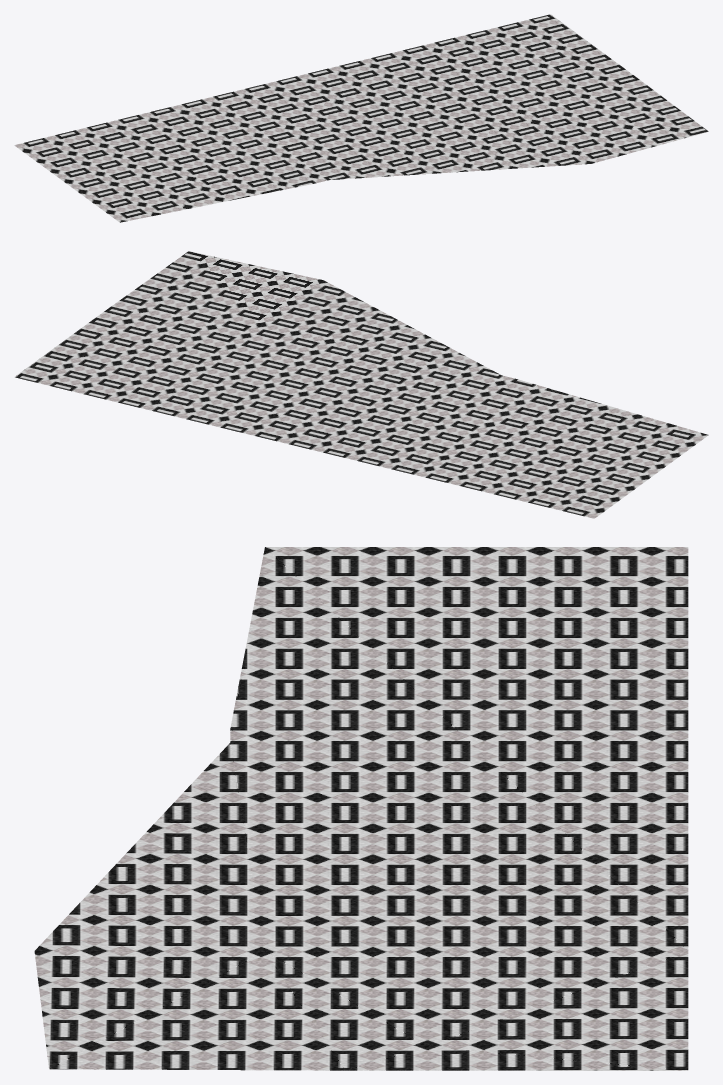
Rendered from floor.obj.
3 views of the same model, one above another, from view 1: azimuth 30°, elevation 25°; view 2: azimuth 150°, elevation 25°; view 3: azimuth 270°, elevation 25° (orthographic). The views are drawn at different scales.
Bounding box in the file's own units: 65.49 × 0.0046 × 34.55.
1 material, 1 textured.
